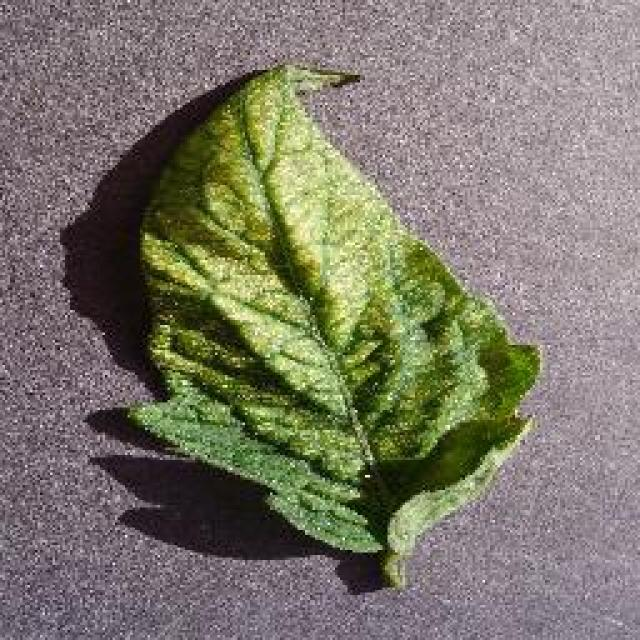Tom_Spider_mites Two-spotted_spider_mite: (144, 119, 388, 356)
